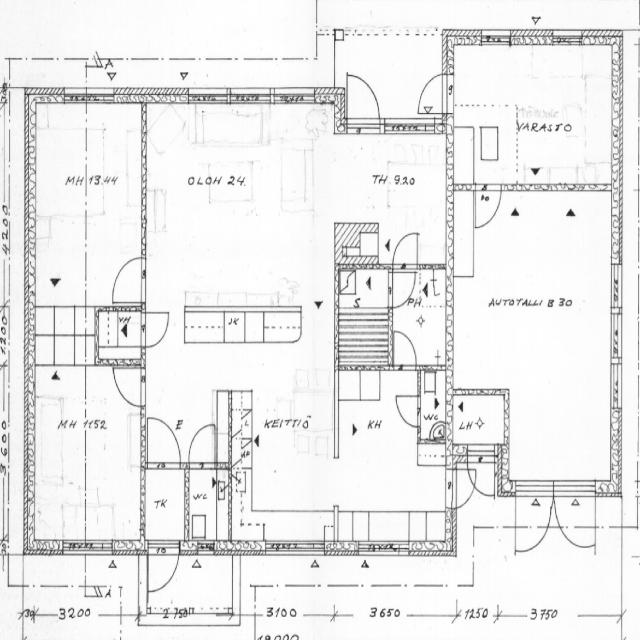door: (97, 248, 146, 366), (390, 263, 445, 365), (183, 461, 233, 549), (342, 67, 384, 135), (105, 248, 148, 312), (143, 412, 189, 471), (389, 229, 422, 300), (146, 541, 182, 601), (110, 361, 146, 410), (186, 418, 219, 470), (466, 445, 496, 502), (471, 182, 504, 230), (414, 71, 447, 119), (139, 306, 173, 352), (387, 262, 418, 312), (391, 325, 420, 373), (393, 390, 422, 432), (452, 469, 473, 511)
window: (380, 113, 441, 142), (263, 540, 320, 562)
zone: (454, 169, 621, 494), (146, 102, 322, 313), (30, 96, 146, 322), (451, 39, 619, 186), (220, 324, 330, 544), (26, 361, 146, 548), (336, 374, 438, 547), (310, 132, 446, 260), (389, 265, 450, 369), (335, 264, 391, 372), (184, 464, 232, 550), (450, 388, 506, 452), (143, 466, 185, 544), (93, 306, 145, 368), (418, 369, 449, 446)
